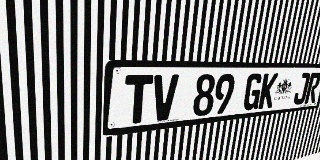8: (192, 74, 217, 117)
9: (212, 74, 236, 114)
G: (242, 73, 264, 111)
J: (292, 73, 311, 105)
K: (258, 73, 278, 109)
R: (304, 73, 320, 104)
T: (123, 75, 153, 125)
V: (151, 74, 179, 122)
